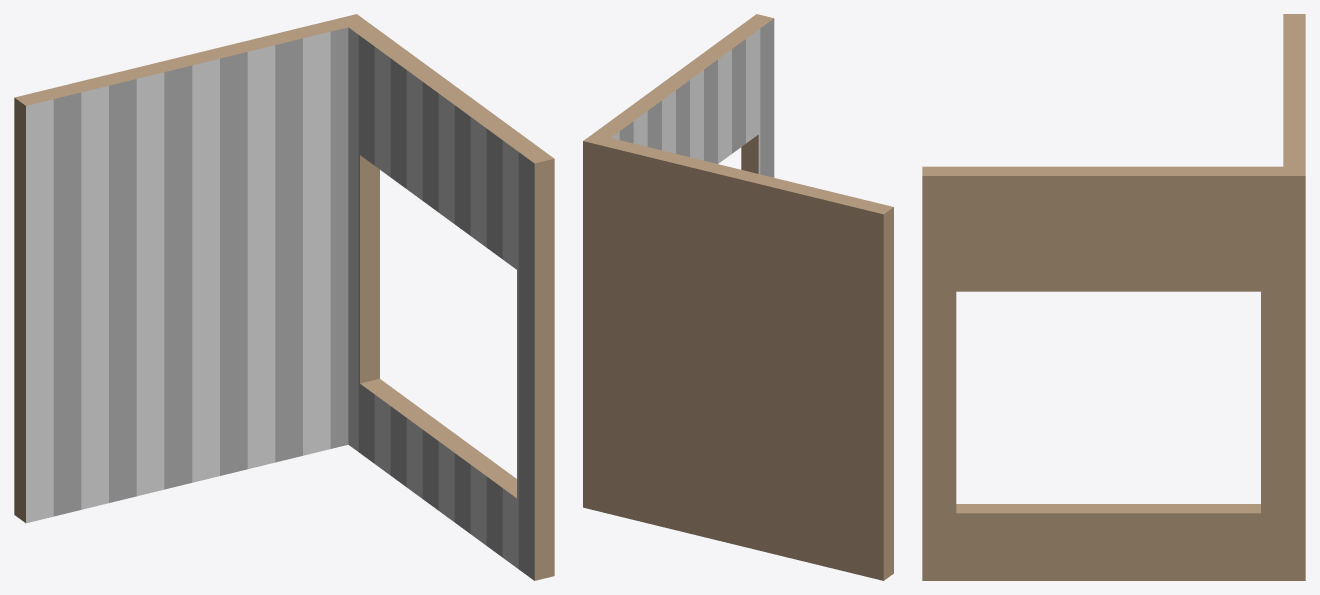
Rendered from Wall2_C8_14.fbx.
3 renders of one model, left to right at view 1: azimuth 30°, elevation 25°; view 2: azimuth 150°, elevation 25°; view 3: azimuth 270°, elevation 25°, orthographic. The views are drawn at different scales.
Parts seen in each view (by area): view 1: Wall2_C8_14; view 2: Wall2_C8_14; view 3: Wall2_C8_14.
Part boxes in pixels (bbox=[...]): Wall2_C8_14: bbox=[14, 14, 554, 580]; Wall2_C8_14: bbox=[583, 14, 893, 580]; Wall2_C8_14: bbox=[922, 14, 1305, 580].
Bounding box in the file's own units: 258 × 300 × 258.
